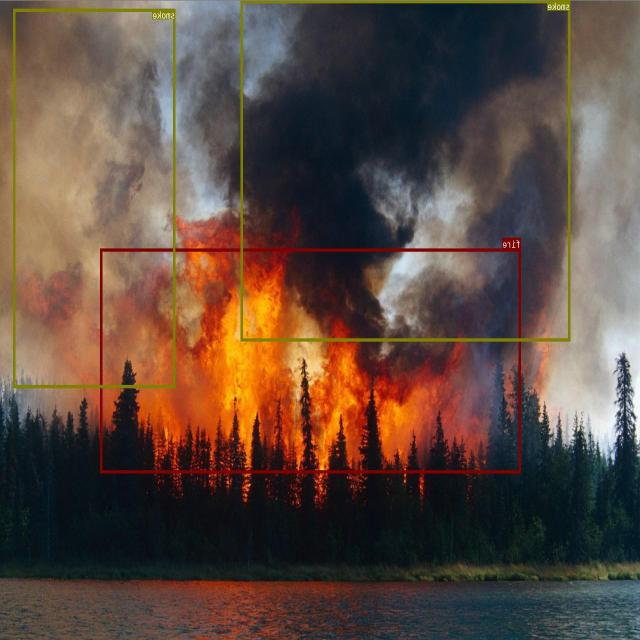fire: (101, 248, 521, 472)
smoke: (242, 0, 571, 340), (14, 9, 176, 388)
